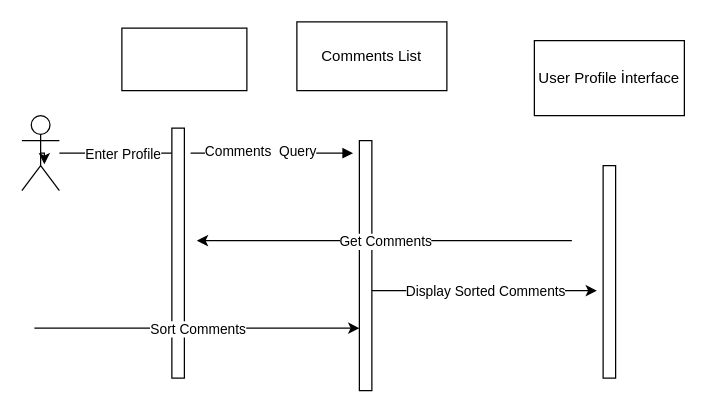
Image size: 706x413. Some labels were removed from this diagram. Each missing label, with the centre of its shape:
"Actor" goes at point 40,152.
"TNTPSP Interface" goes at point 184,59.
